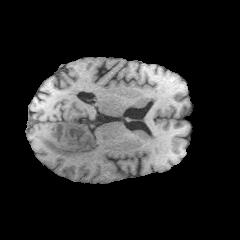glioma: (40, 122, 97, 158)
